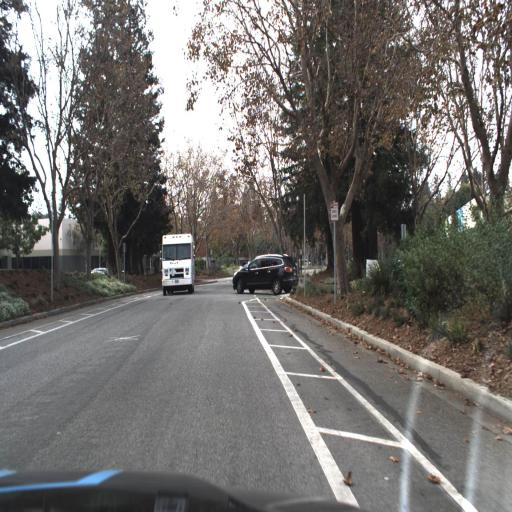car: (230, 250, 301, 296), (95, 267, 109, 274)
truck: (161, 231, 194, 299)
